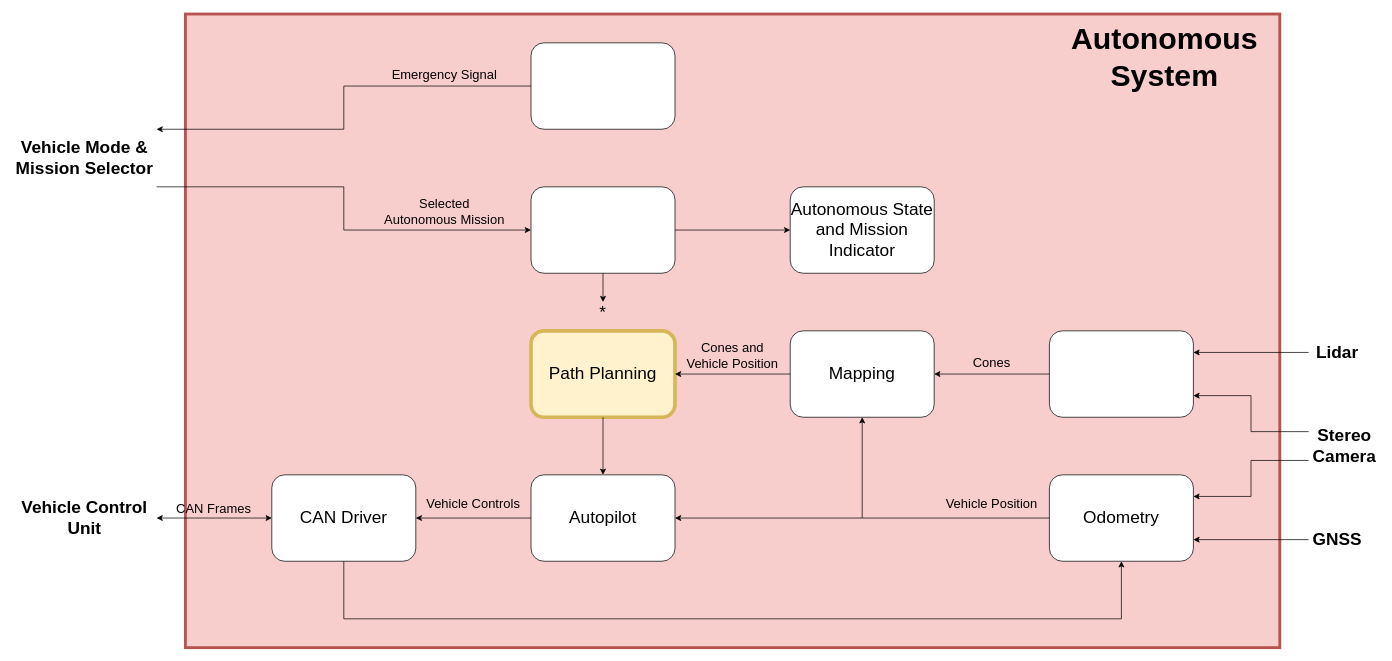
This 1392x661 diagram has some shape labels left out. The centre of each missing label's shape, as x and y in pixels:
Autonomous System State Machine: pixel 602 229
Perception System: pixel 1121 373
Remote Emergency System: pixel 602 85
